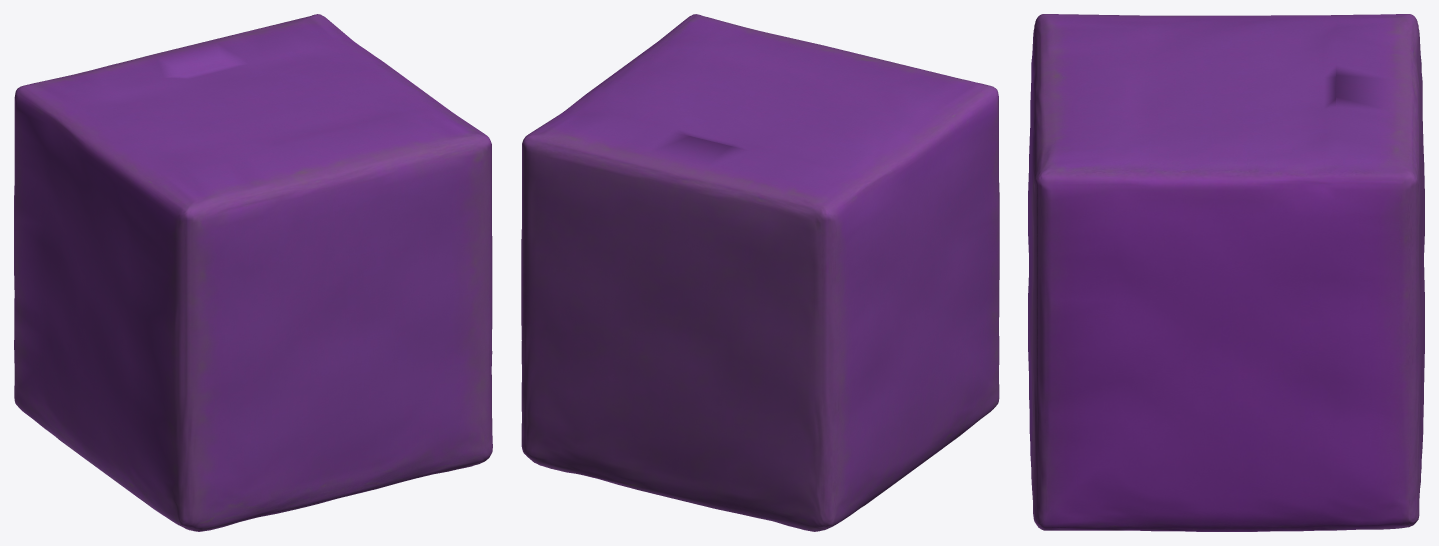
3 renders of one model, left to right at view 1: azimuth 30°, elevation 25°; view 2: azimuth 150°, elevation 25°; view 3: azimuth 270°, elevation 25°, orthographic. The views are drawn at different scales.
Parts seen in each view (by area): view 1: tripo_node_2e098d1f-5c98-4903-ab49-6a834b456aa6; view 2: tripo_node_2e098d1f-5c98-4903-ab49-6a834b456aa6; view 3: tripo_node_2e098d1f-5c98-4903-ab49-6a834b456aa6.
Part boxes in pixels (x1,y1,x2,y2): tripo_node_2e098d1f-5c98-4903-ab49-6a834b456aa6: (14, 14, 492, 531); tripo_node_2e098d1f-5c98-4903-ab49-6a834b456aa6: (521, 14, 999, 531); tripo_node_2e098d1f-5c98-4903-ab49-6a834b456aa6: (1028, 14, 1424, 531).
Bounding box in the file's own units: 0.9922 × 1 × 0.9609.
Materials: 1 (1 with a texture image).
